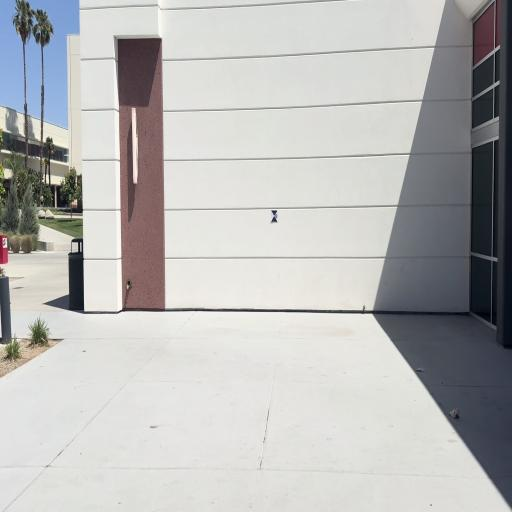target0: (271, 210, 278, 223)
